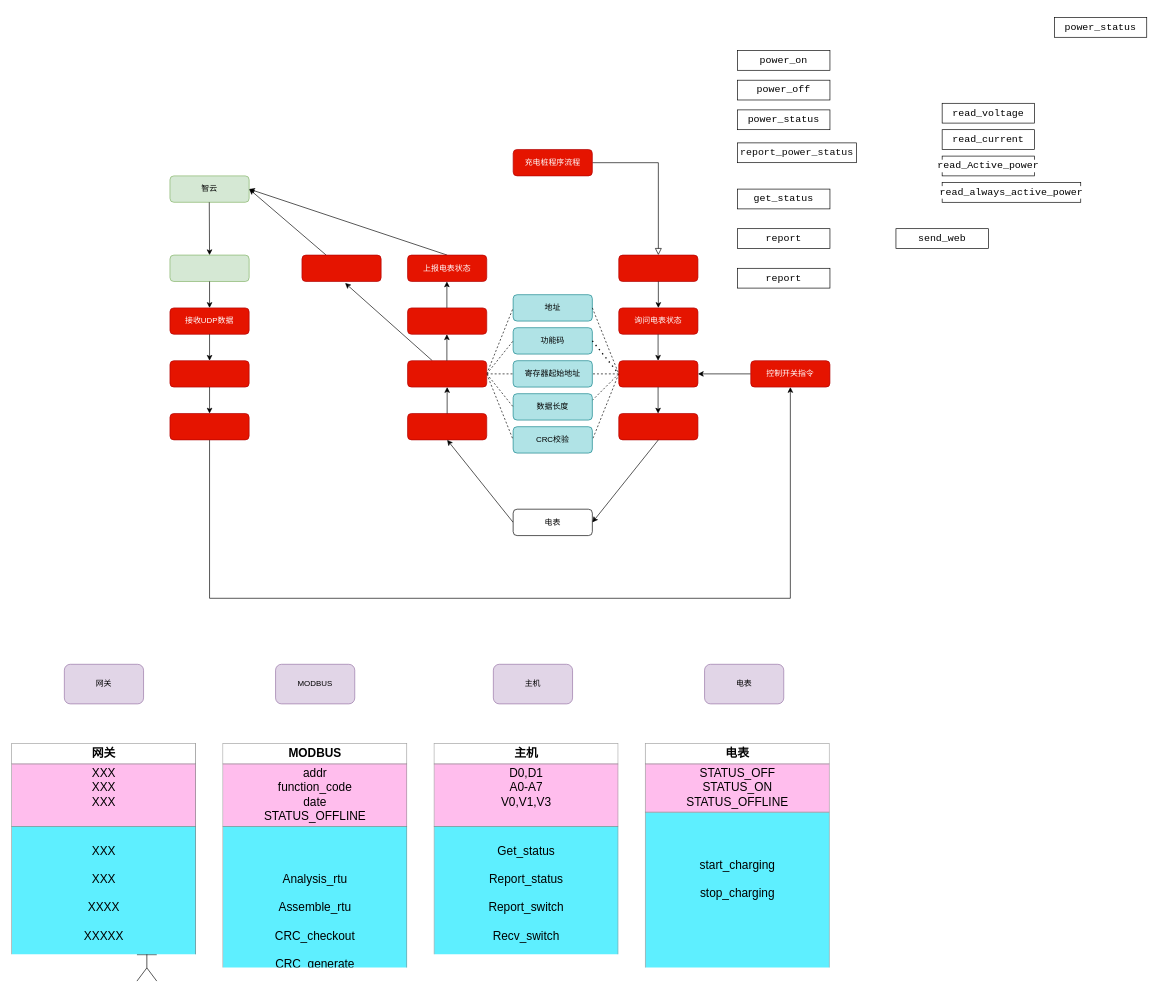
The diagram is 1158 pixels wide and 1006 high, and some of its shapes have lost their labels. Here are the shapes that lost their labels. From the top down, the centre of each, then its label:
pixel 209 267: 下发控制指令
pixel 341 267: 是否打开状态
pixel 658 267: 初始化
pixel 447 320: 获得电表状态
pixel 209 373: 解析UDP数据
pixel 447 373: 解析Modbus-RTU帧
pixel 658 373: 组装Modbus-RTU帧
pixel 209 426: 确定控制功能
pixel 447 426: 读串口
pixel 658 426: 写串口
pixel 146 961: Actor
